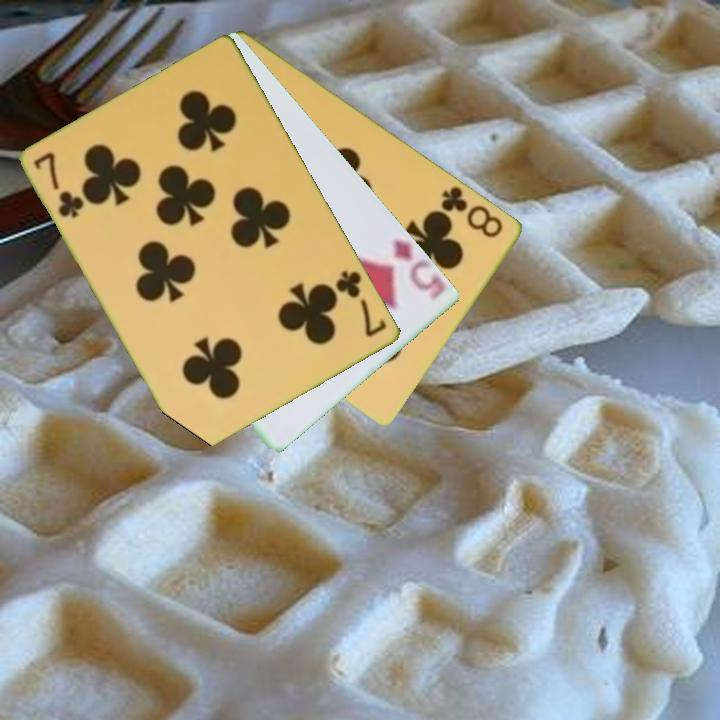5d: (390, 235, 444, 299)
7c: (332, 267, 390, 341), (31, 148, 88, 222)
8c: (437, 182, 507, 241)
